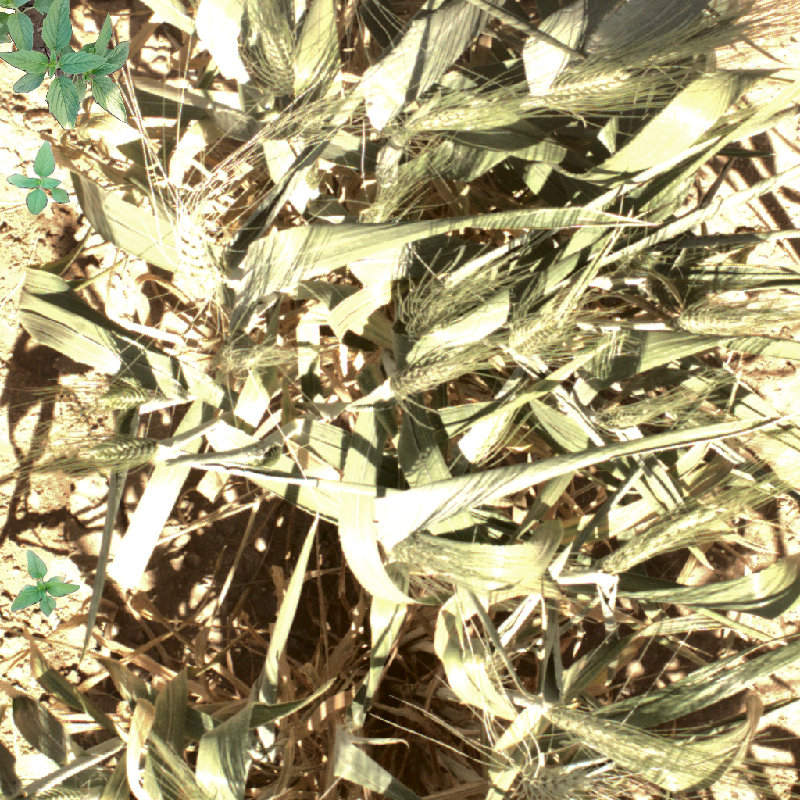spikelet: (549, 705, 726, 779), (440, 537, 550, 622), (597, 502, 720, 575), (403, 294, 513, 362), (674, 286, 798, 339), (175, 207, 229, 307), (444, 653, 519, 722), (505, 293, 581, 359), (390, 91, 529, 127), (535, 64, 630, 107), (578, 398, 693, 433), (385, 359, 466, 398), (260, 25, 297, 97), (368, 164, 405, 233), (521, 764, 593, 799), (81, 436, 161, 466), (97, 376, 152, 410), (25, 789, 128, 800)
weed: (1, 1, 129, 130), (6, 140, 70, 215), (11, 550, 80, 617)
